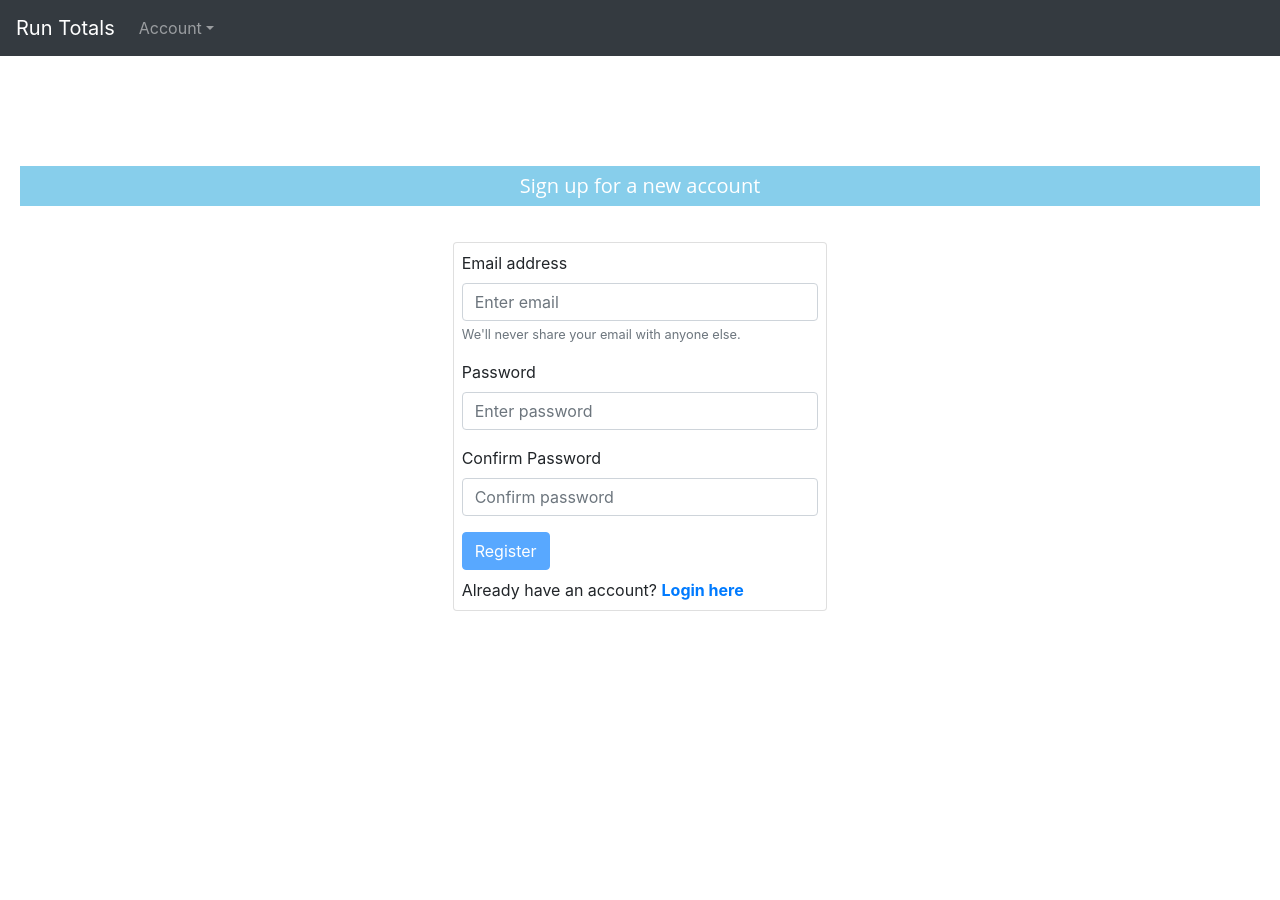
Register page tests › Server side validation › should show general error message
Type "valid@email.com" into the field with test id "email-input" at (640, 302), box [462,283,818,321]
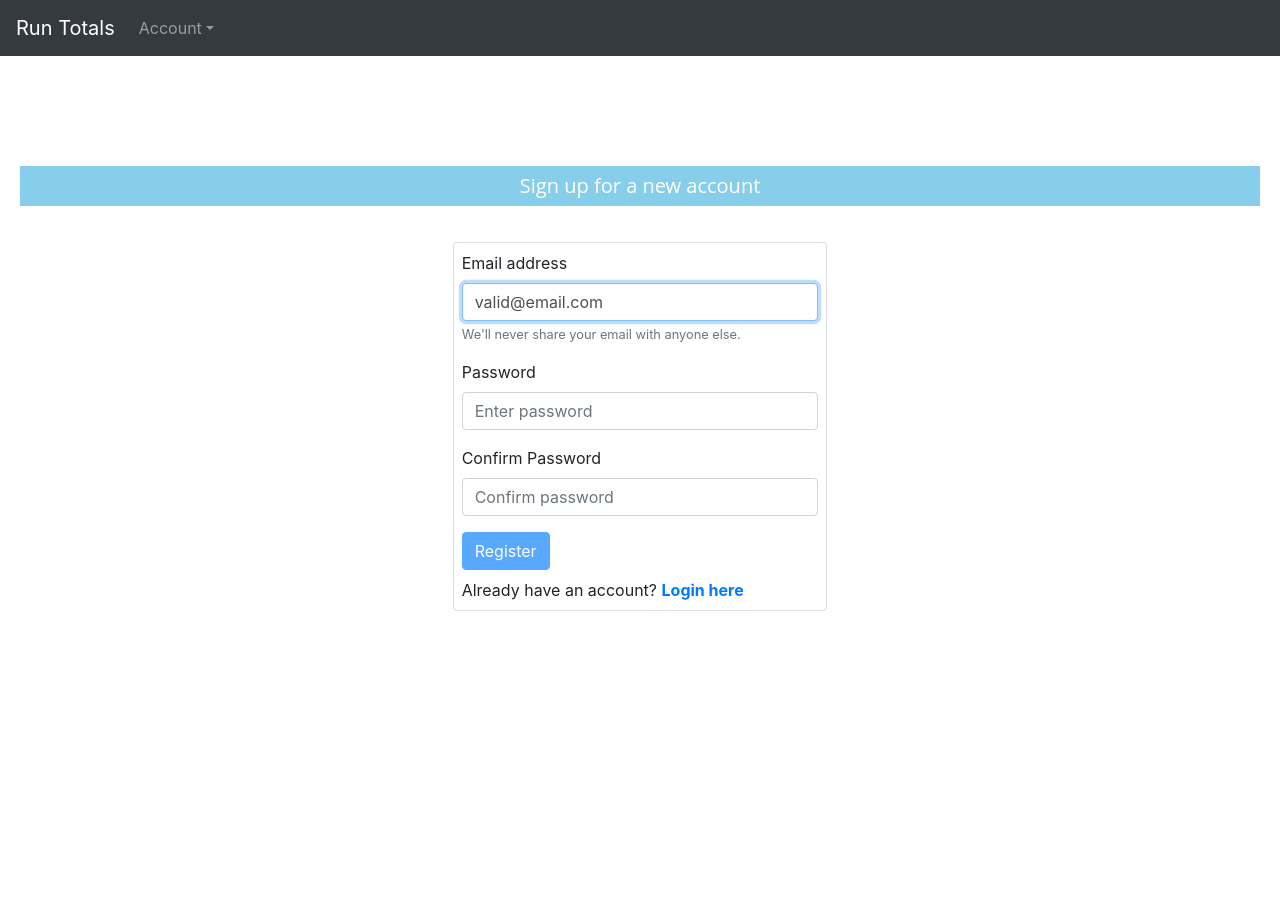
Type "validPassw0rd" into the password field with test id "password-input" at (640, 411), box [462,392,818,430]
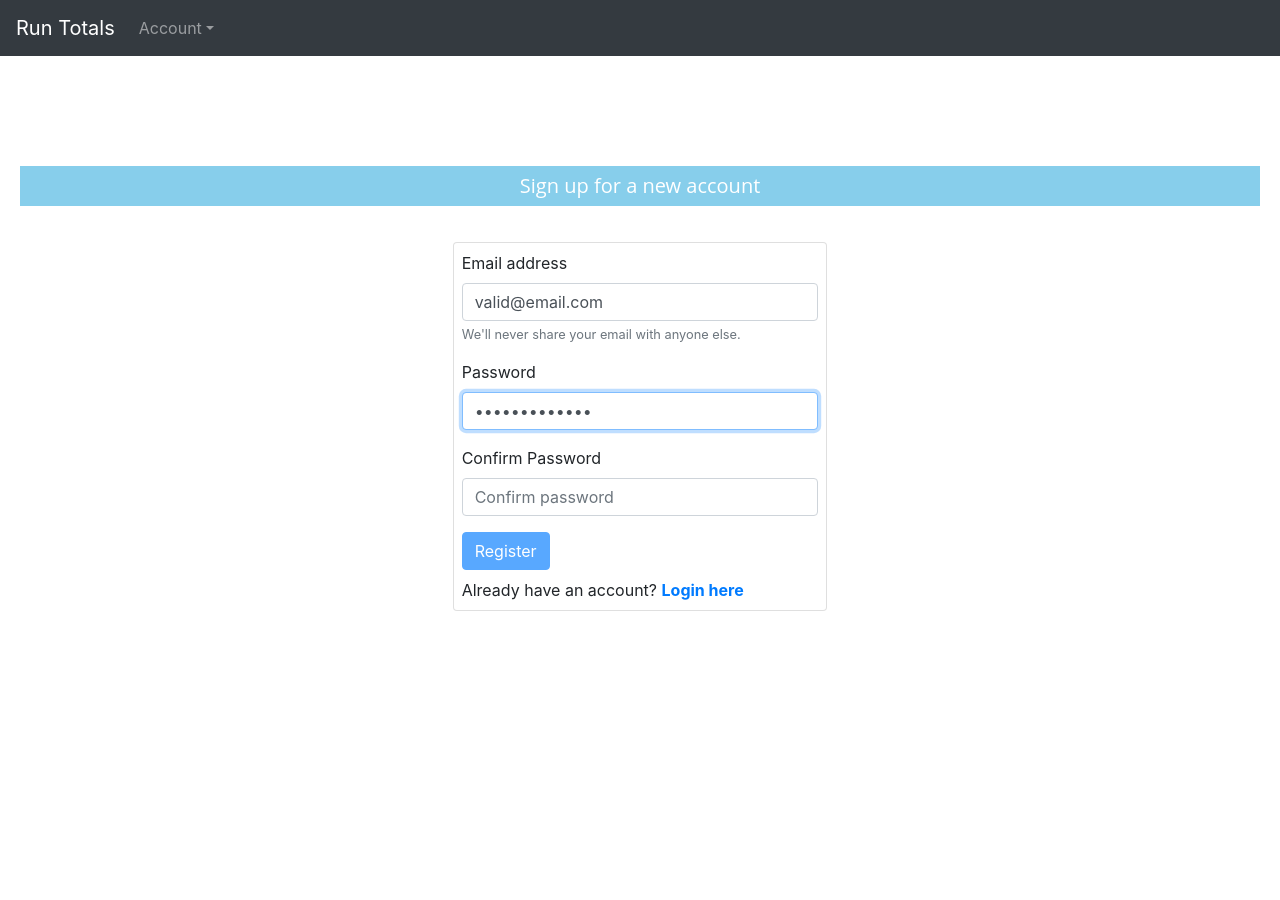
Type "validPassw0rd" into the password field with test id "confirmPassword-input" at (640, 497), box [462,478,818,516]
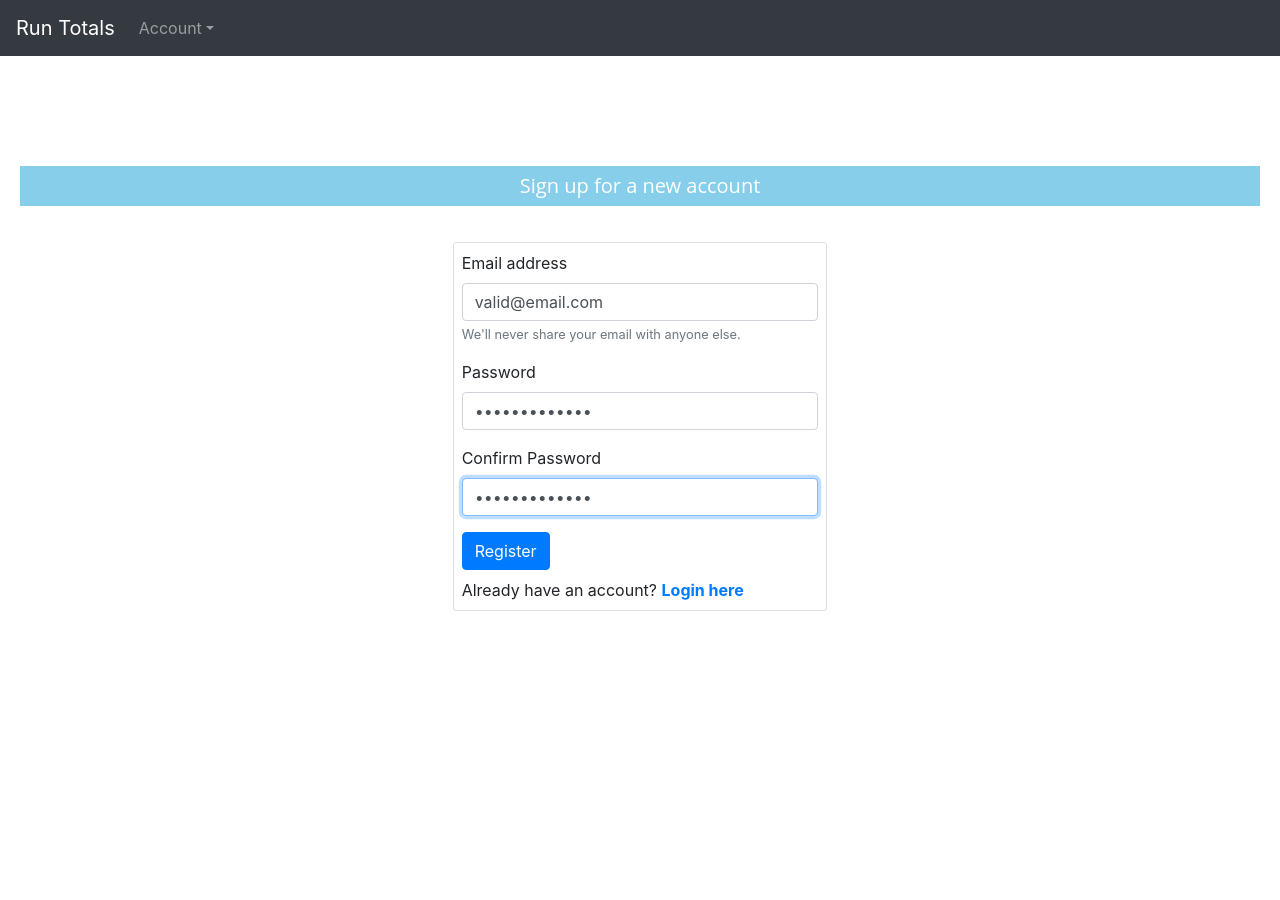
Click the button "Register" at (506, 551), box [462,532,550,570]
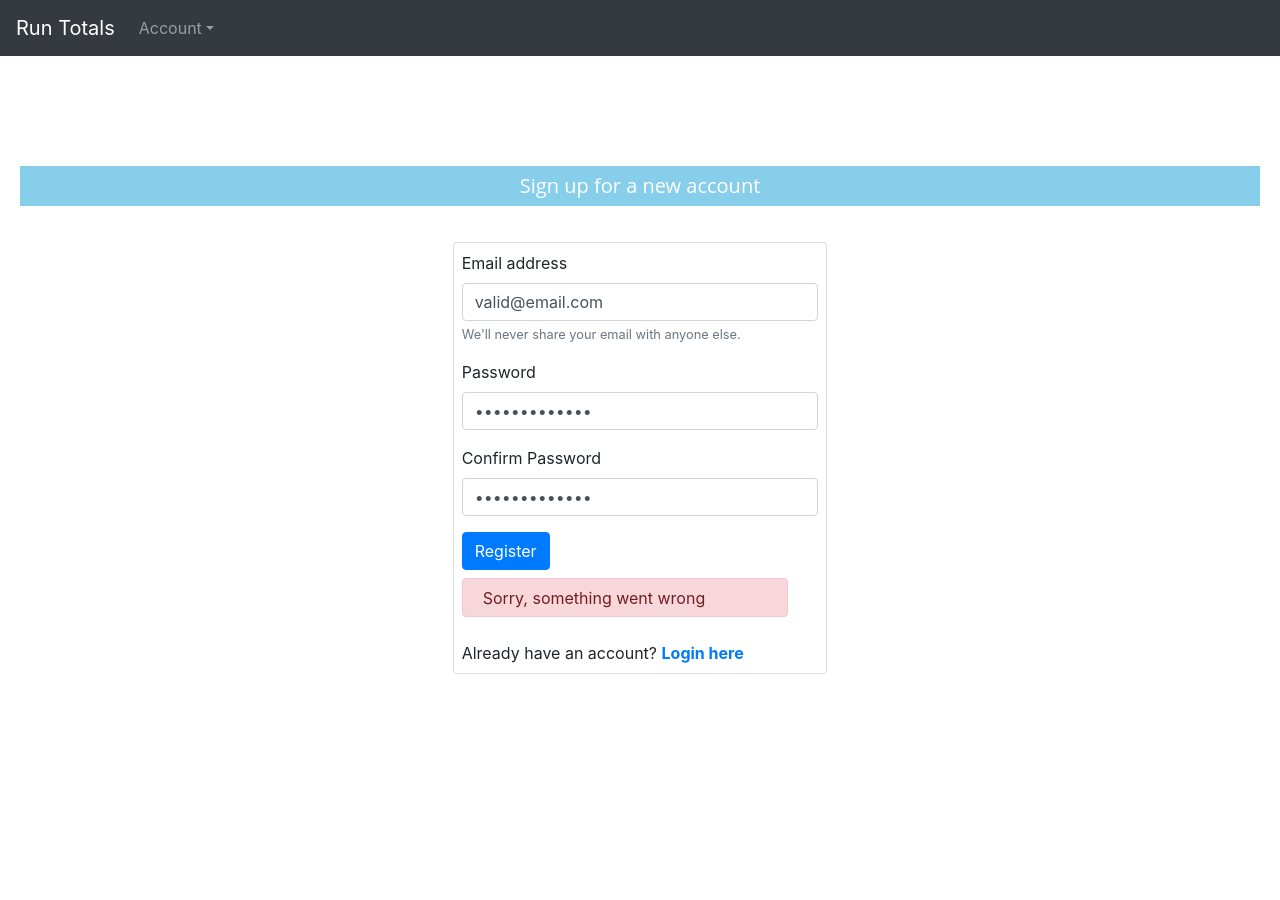
Check: the message "Sorry, something went wrong" is shown, box [462,578,788,617]
Check: the message reads "Sorry, something went wrong", box [483,588,705,608]
